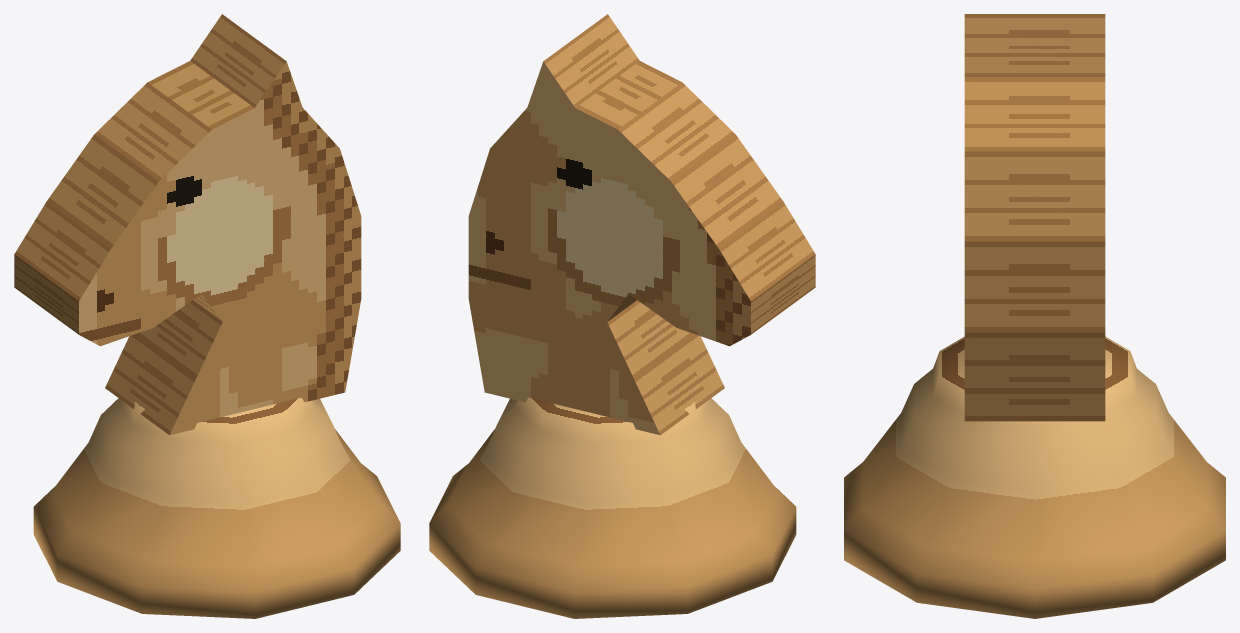
Rendered from play-chessKnight.glb.
3 views of the same model, side by side, from view 1: azimuth 30°, elevation 25°; view 2: azimuth 150°, elevation 25°; view 3: azimuth 270°, elevation 25° (orthographic). The views are drawn at different scales.
Visible parts, largest first — view 1: play.chessKnight; view 2: play.chessKnight; view 3: play.chessKnight.
Part boxes in pixels (left/top/right/bottom): play.chessKnight: left=14, top=14, right=400, bottom=618; play.chessKnight: left=429, top=14, right=815, bottom=618; play.chessKnight: left=844, top=14, right=1225, bottom=618.
Size of the model in its own units: 1.14 by 1.64 by 1.05.
3 materials, 3 textured.
